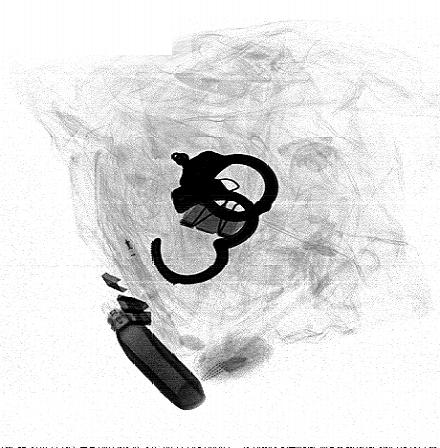HandCuffs: (147, 148, 281, 286)
